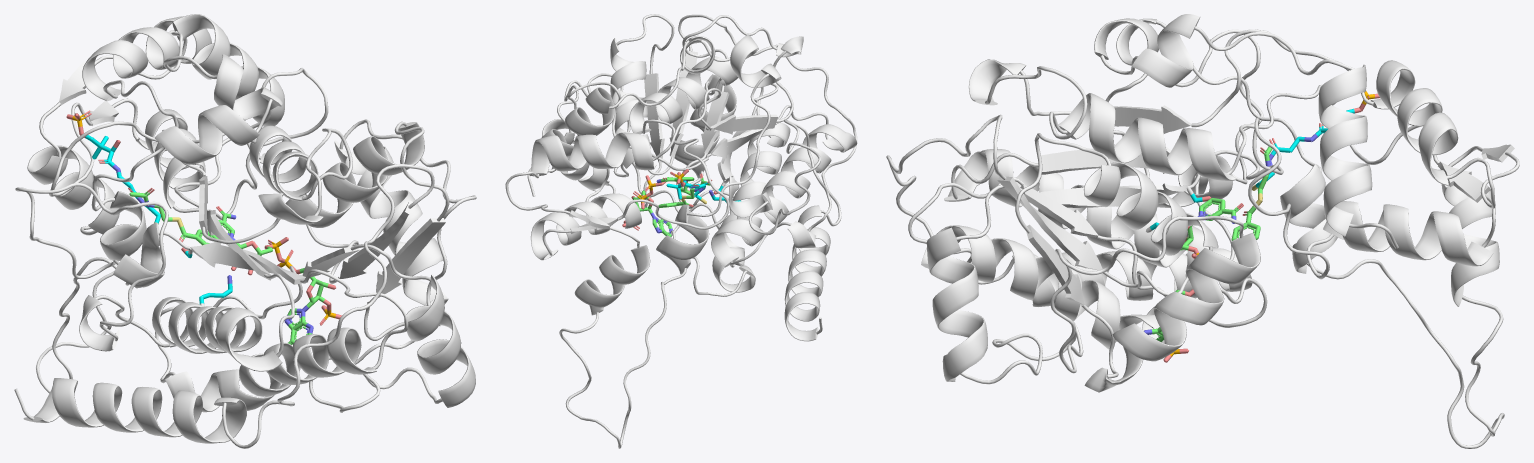
The model's file is Fig4nocav.gltf.
3 views of the same model, side by side, from view 1: azimuth 30°, elevation 25°; view 2: azimuth 150°, elevation 25°; view 3: azimuth 270°, elevation 25° (orthographic). The views are drawn at different scales.
Parts seen in each view (by area): view 1: node-geom219, node-geom221, node-geom220, node-geom222; view 2: node-geom221, node-geom220, node-geom219, node-geom222; view 3: node-geom221, node-geom219, node-geom220, node-geom222.
Part boxes in pixels (bbox=[...]): node-geom219: bbox=[14, 119, 476, 448]; node-geom221: bbox=[27, 14, 352, 393]; node-geom220: bbox=[15, 68, 408, 412]; node-geom222: bbox=[172, 22, 284, 126]; node-geom221: bbox=[505, 15, 803, 448]; node-geom220: bbox=[530, 82, 857, 292]; node-geom219: bbox=[542, 14, 857, 341]; node-geom222: bbox=[527, 92, 610, 196]; node-geom221: bbox=[968, 14, 1519, 448]; node-geom219: bbox=[886, 114, 1265, 392]; node-geom220: bbox=[908, 29, 1495, 349]; node-geom222: bbox=[1318, 79, 1398, 248].
Bounding box in the file's own units: 47.57 × 51.04 × 64.92.
